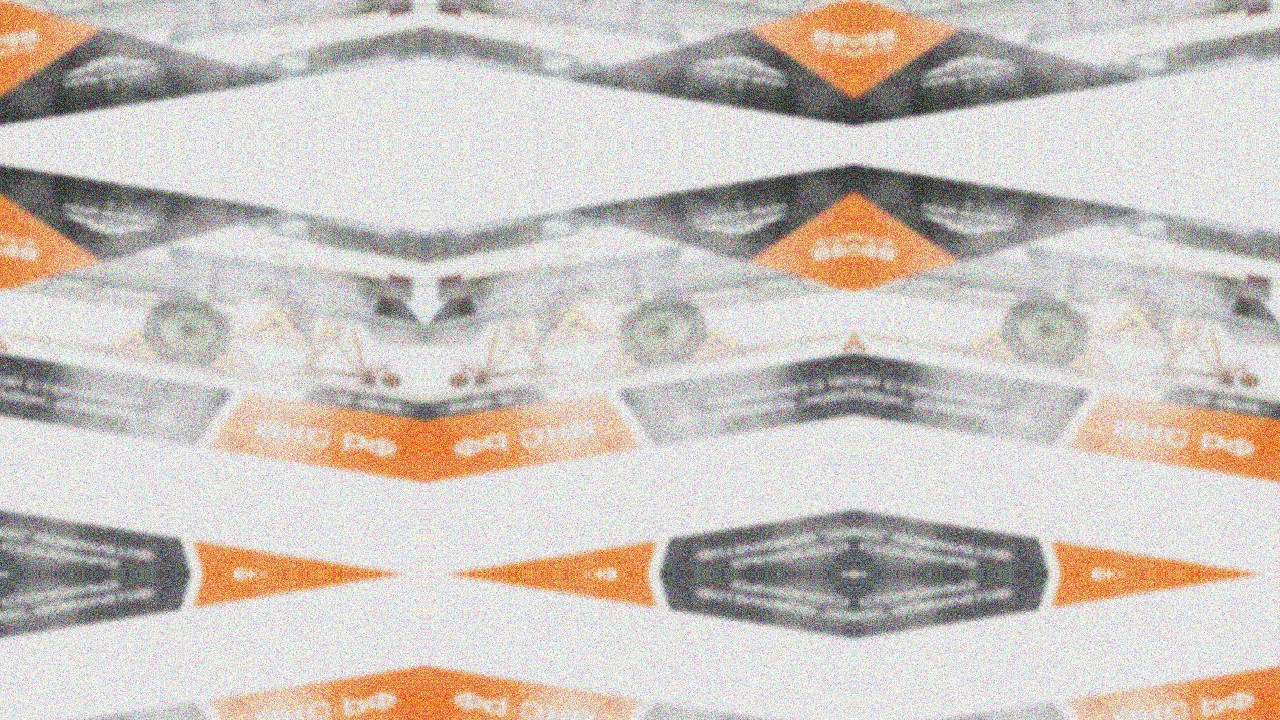chock: (234, 299, 317, 351), (533, 299, 616, 351), (1093, 299, 1176, 351), (204, 340, 265, 378), (585, 340, 646, 378), (1063, 340, 1124, 378), (104, 324, 164, 361), (686, 324, 746, 361), (963, 324, 1023, 361), (840, 329, 854, 352), (855, 329, 869, 352), (0, 329, 10, 352)
wheel: (137, 291, 239, 369), (611, 291, 713, 369), (996, 291, 1098, 369), (379, 371, 401, 389), (449, 371, 471, 389), (1238, 371, 1260, 389)
